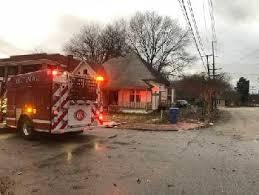fire: (91, 71, 105, 83), (22, 102, 37, 112)
